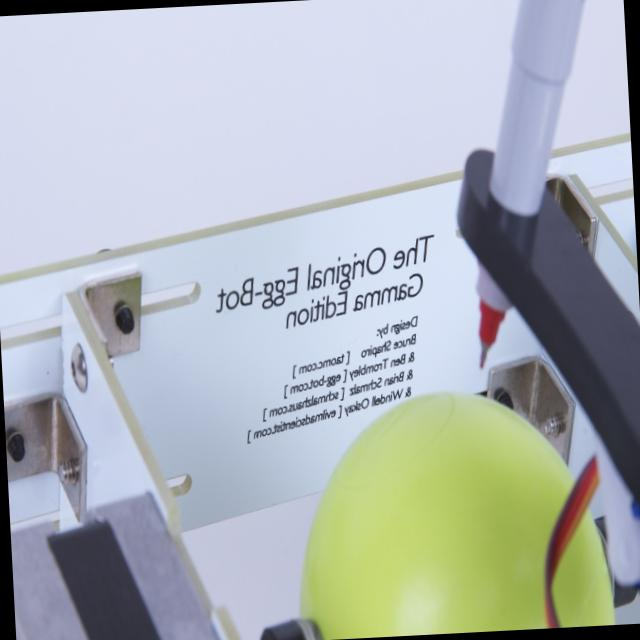Ball: (290, 377, 618, 640)
